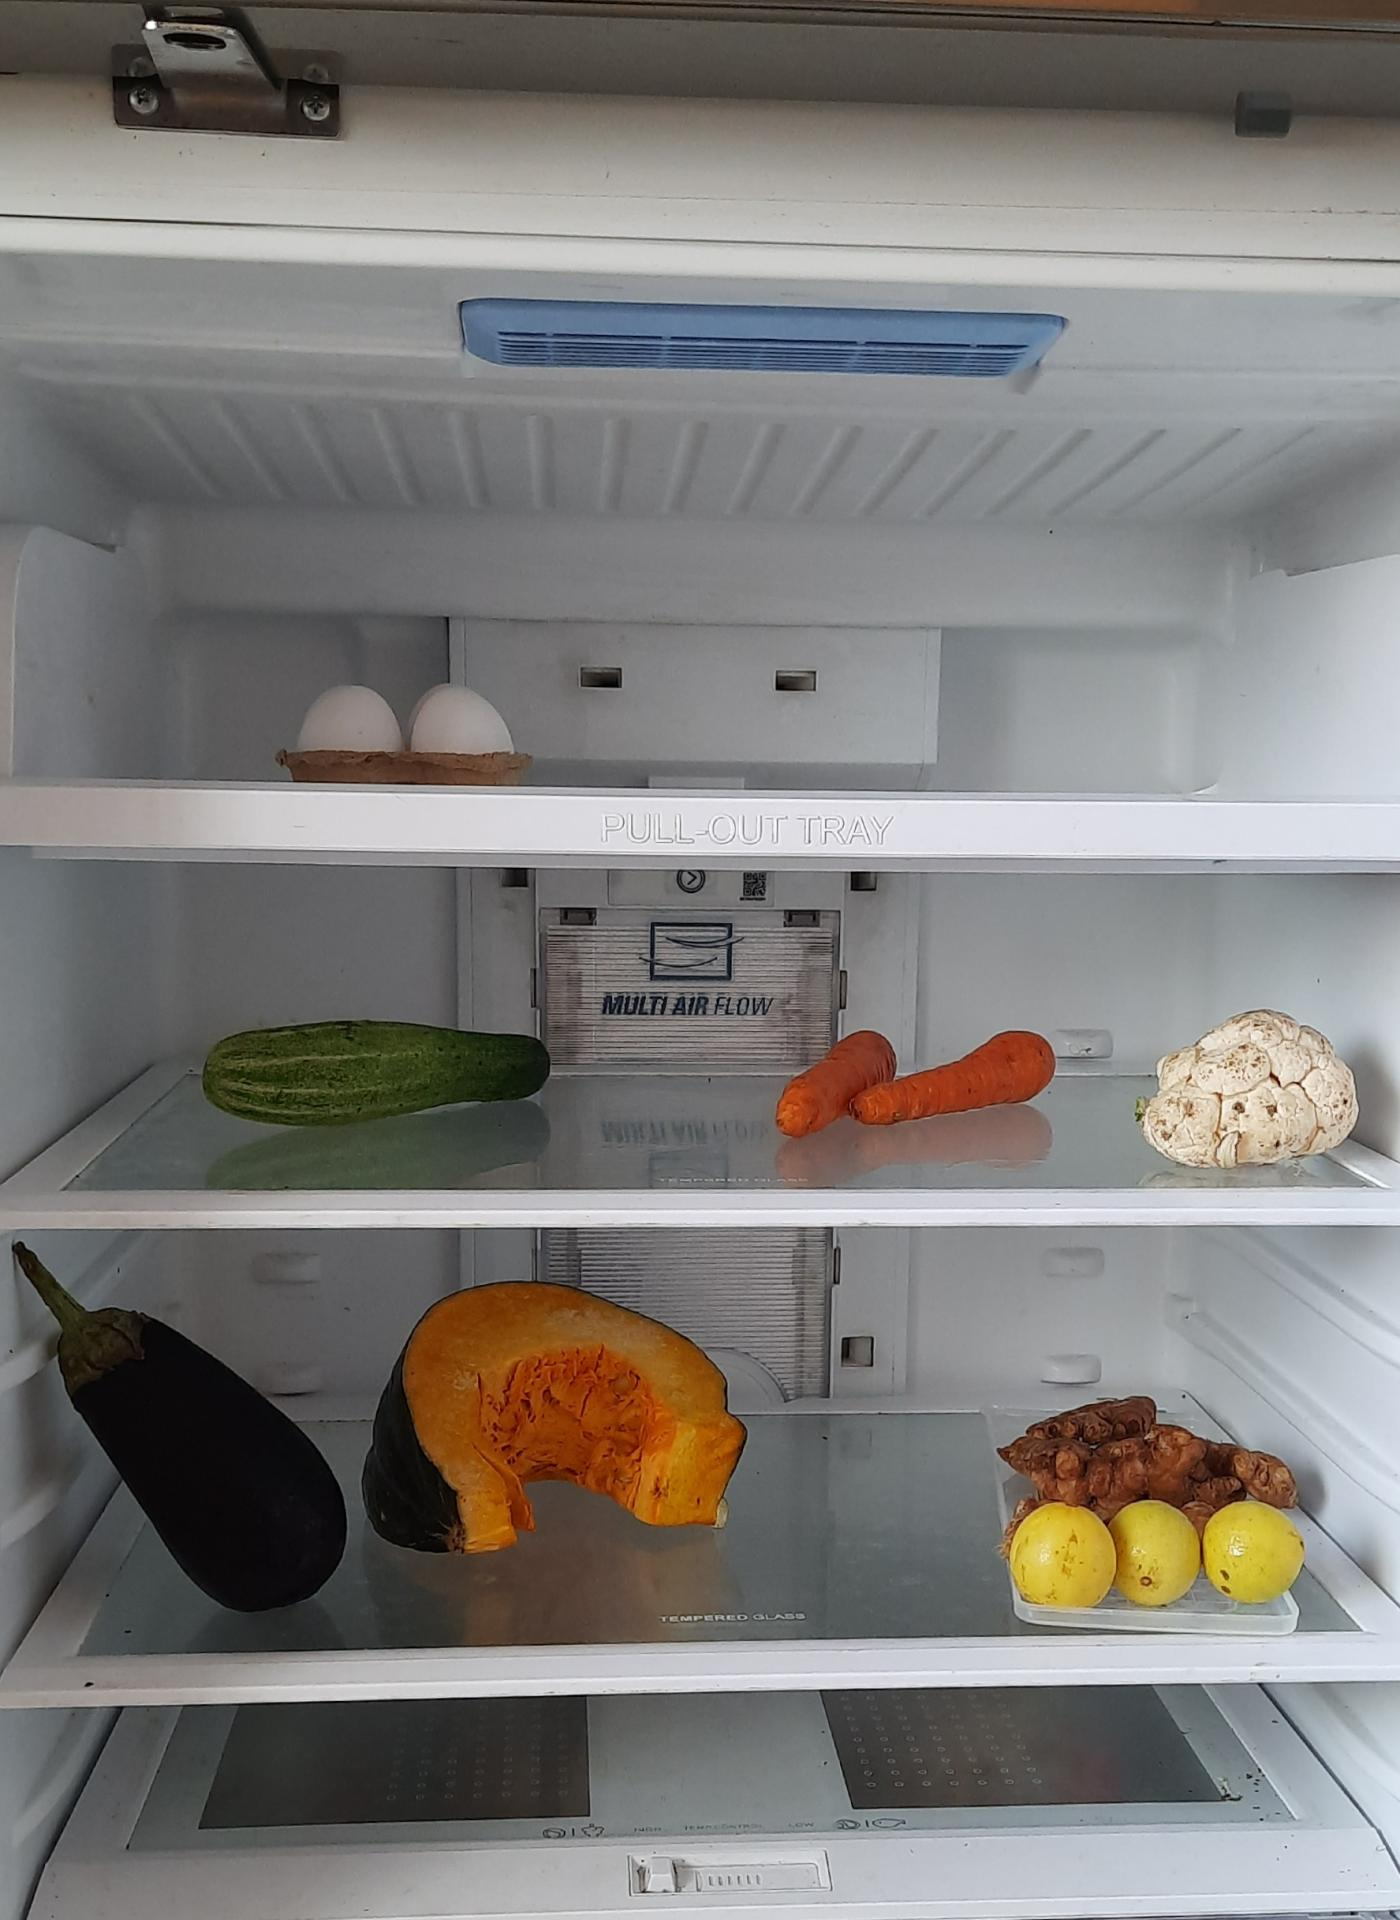brinjal: (7, 1230, 361, 1614)
carrots: (777, 1029, 1060, 1139)
cauliflower: (1145, 1008, 1364, 1167)
cucumber: (197, 1000, 565, 1149)
egg: (288, 680, 523, 786)
ginger: (1002, 1394, 1317, 1523)
lemon: (1003, 1495, 1312, 1607)
pumpkin: (377, 1285, 750, 1547)
